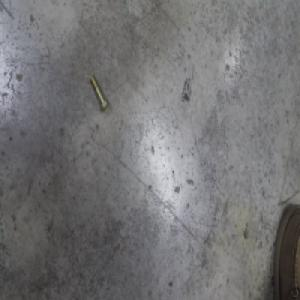Bolt: (89, 74, 109, 114)
